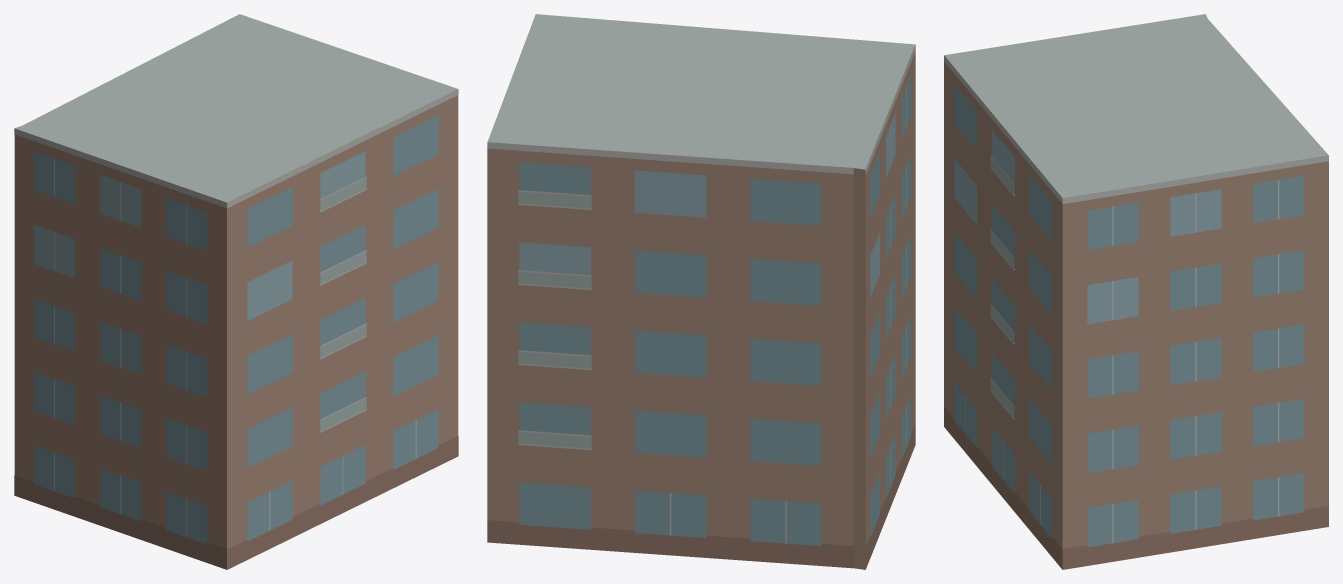
The model's file is survey-upis-32849920.glb.
3 views of the same model, side by side, from view 1: azimuth 30°, elevation 25°; view 2: azimuth 150°, elevation 25°; view 3: azimuth 270°, elevation 25° (orthographic). The views are drawn at different scales.
Parts seen in each view (by area): view 1: survey-upis-32849920.tmp; view 2: survey-upis-32849920.tmp; view 3: survey-upis-32849920.tmp.
Boxes of the visible parts, left/top/right/bottom form: survey-upis-32849920.tmp: left=14, top=14, right=458, bottom=569; survey-upis-32849920.tmp: left=487, top=14, right=915, bottom=569; survey-upis-32849920.tmp: left=944, top=14, right=1328, bottom=569.
Bounding box in the file's own units: 16.29 × 15.3 × 14.37.
